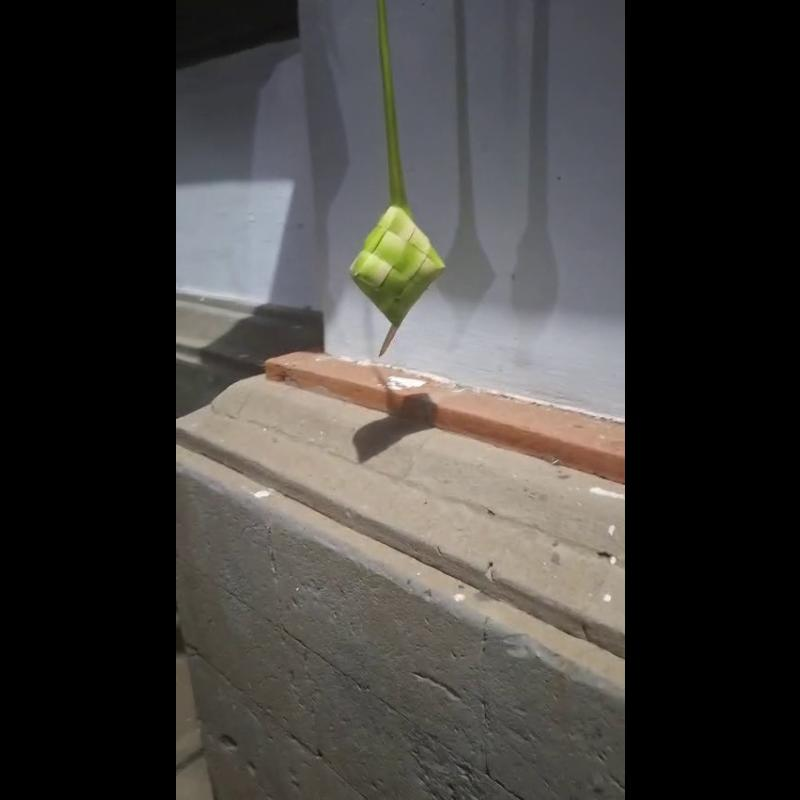Tipat Nasi: (339, 200, 449, 355)
